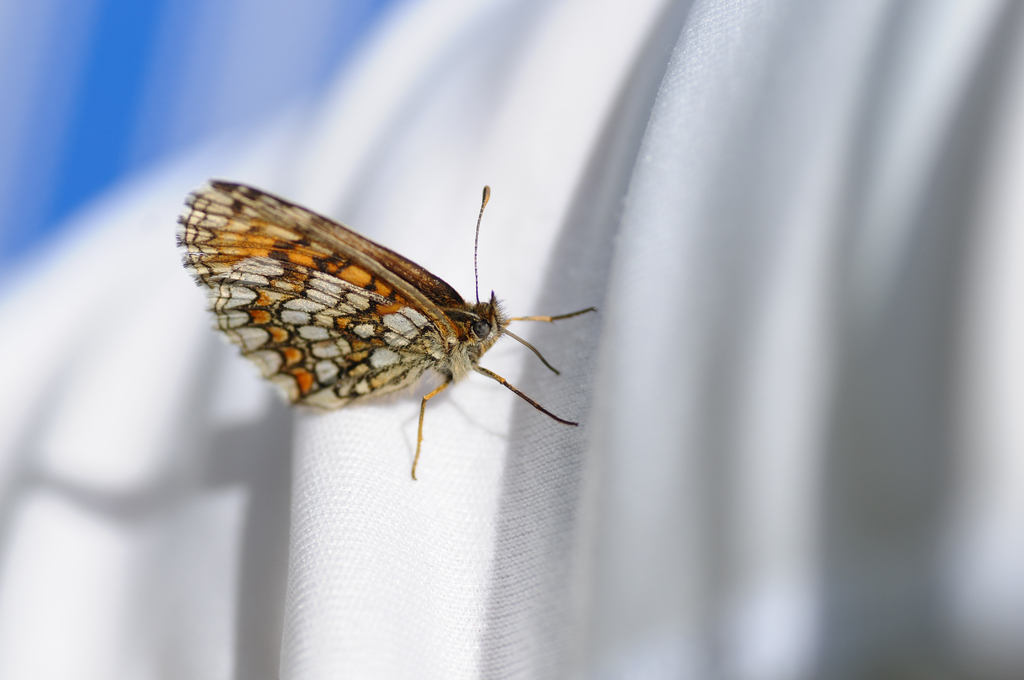Butterfly: (171, 136, 597, 478)
